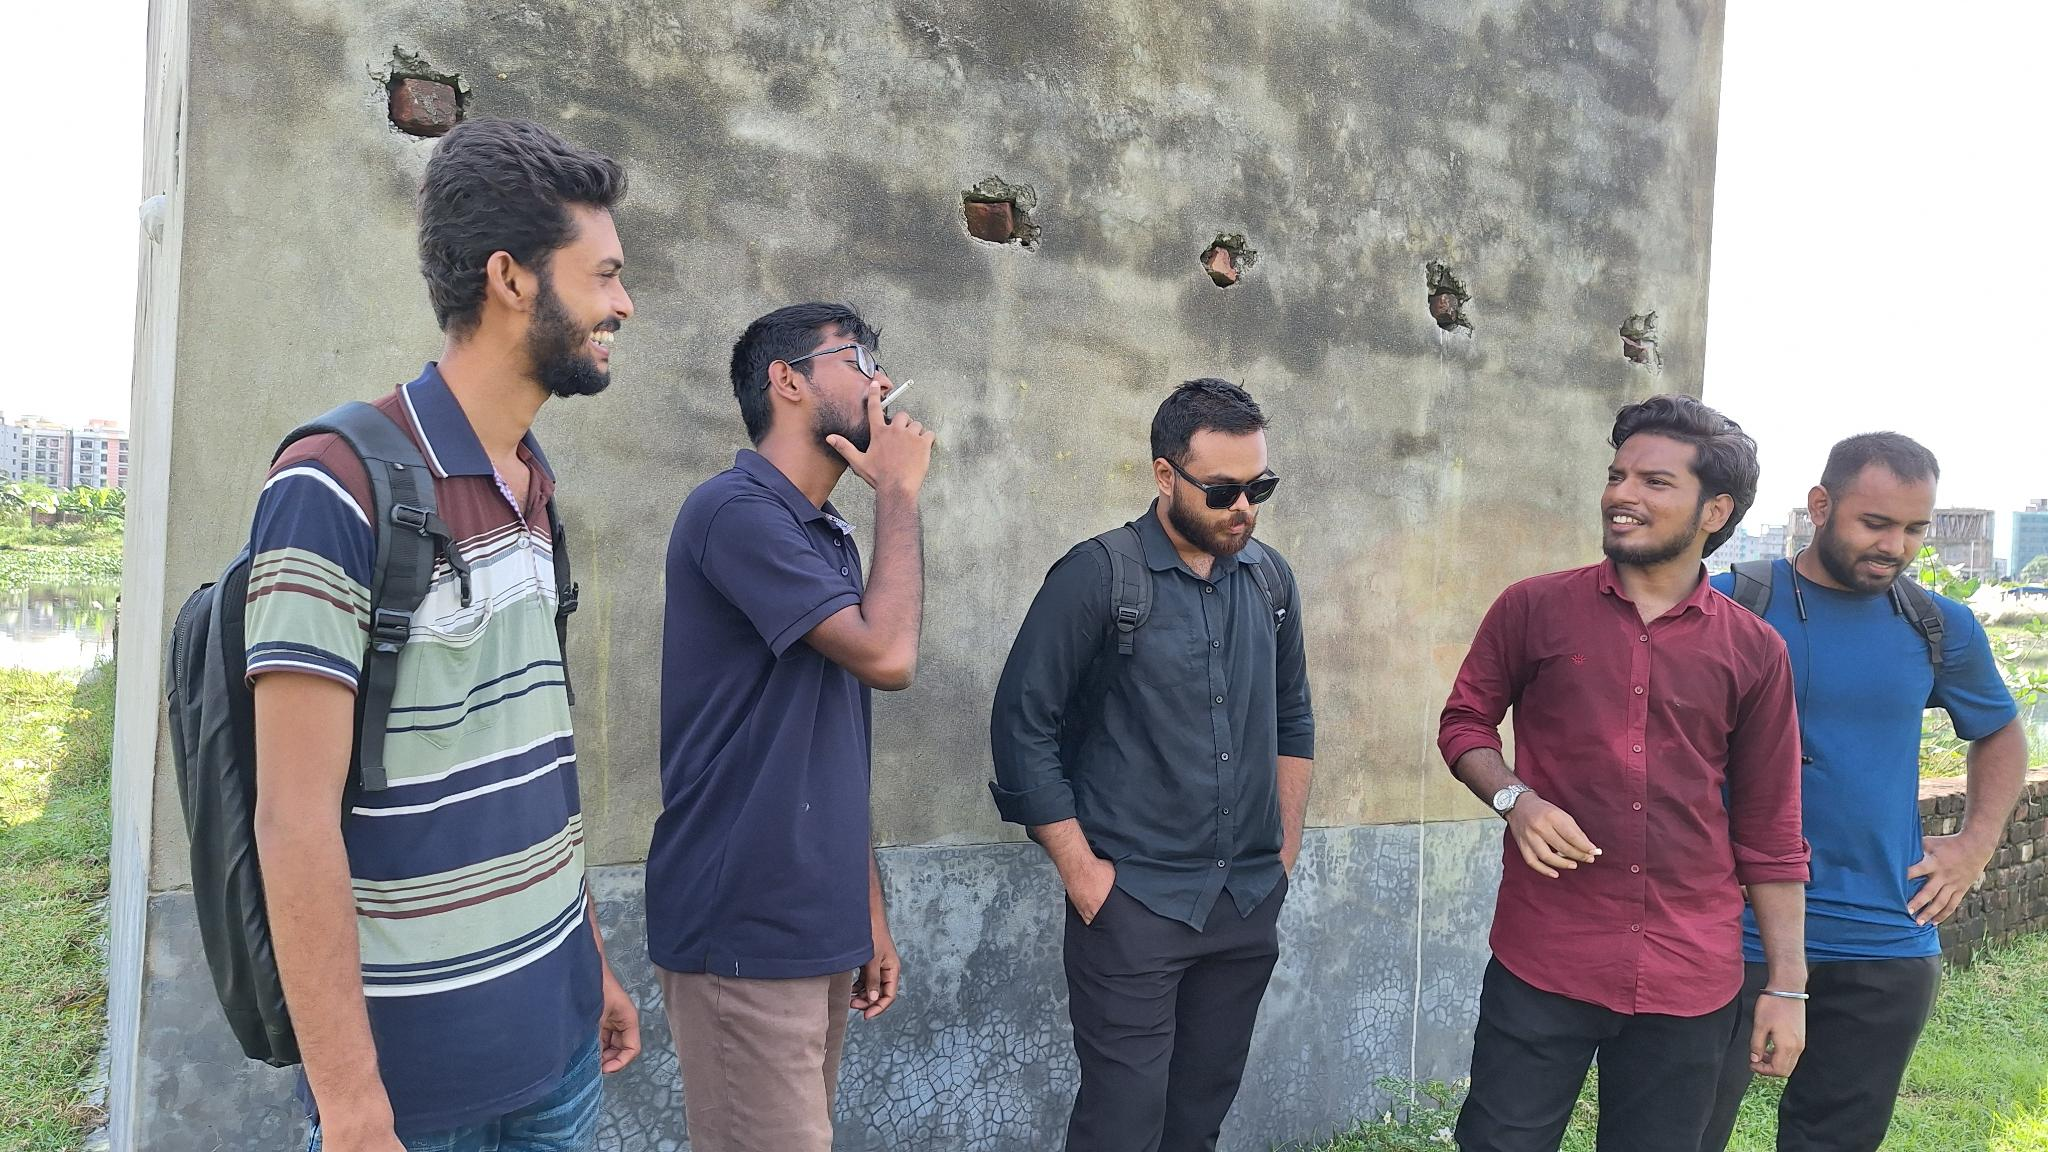cigarette: (879, 377, 917, 411)
nonSmoker: (165, 114, 641, 1152), (1433, 397, 1807, 1152), (989, 377, 1315, 1152), (1722, 433, 2028, 1152)
smoker: (646, 302, 937, 1152)
